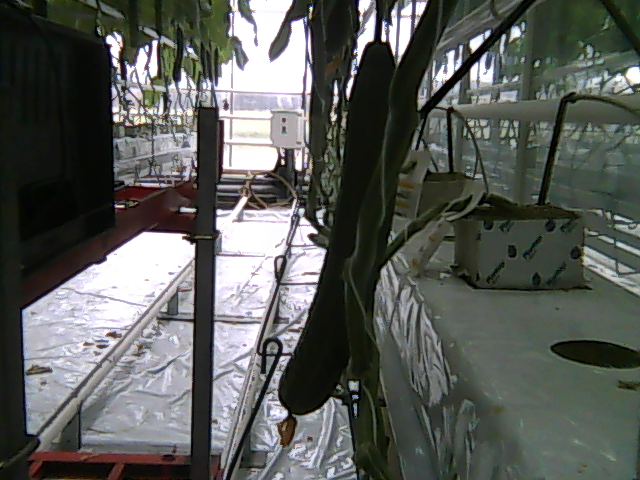concombre: (277, 32, 414, 444)
